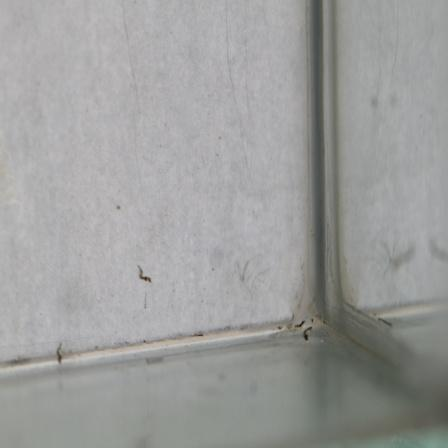Jentik-Nyamuk: (136, 263, 152, 286)
